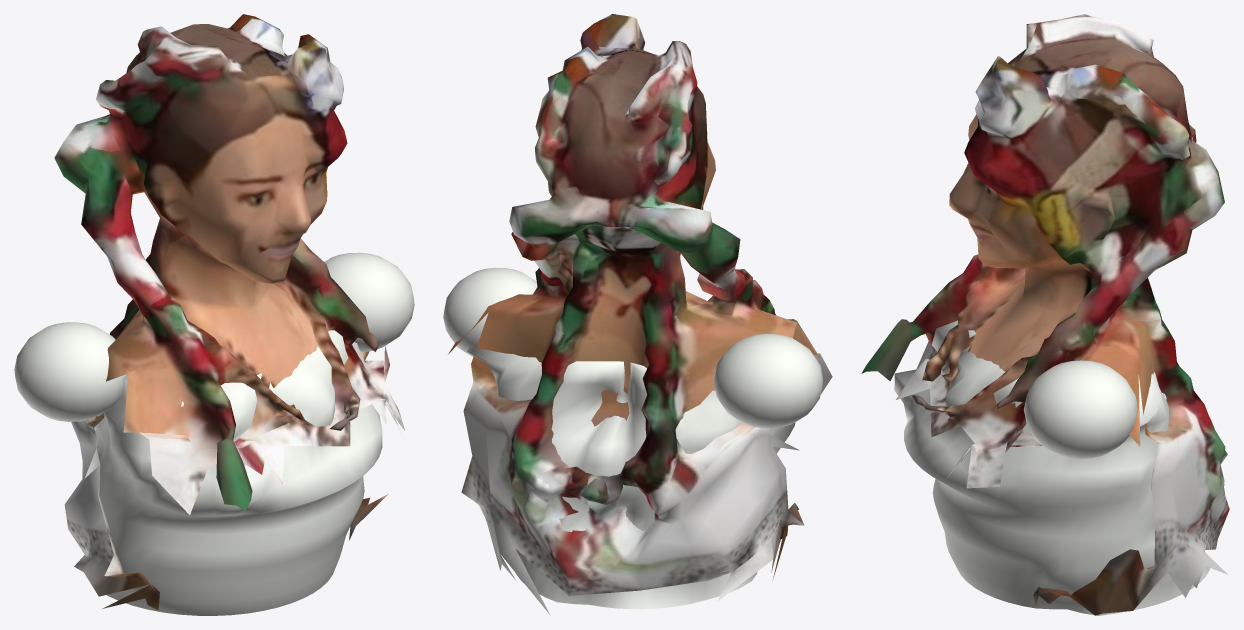
Rendered from china_torso.obj.
3 renders of one model, left to right at view 1: azimuth 30°, elevation 25°; view 2: azimuth 150°, elevation 25°; view 3: azimuth 270°, elevation 25°, orthographic. The views are drawn at different scales.
Parts seen in each view (by area): view 1: china_torso; view 2: china_torso; view 3: china_torso.
Boxes of the visible parts, x1=… form: china_torso: x1=14, y1=14, x2=414, y2=615; china_torso: x1=443, y1=14, x2=832, y2=615; china_torso: x1=861, y1=14, x2=1229, y2=615.
Size of the model in its own units: 0.46 by 0.6191 by 0.3854.
